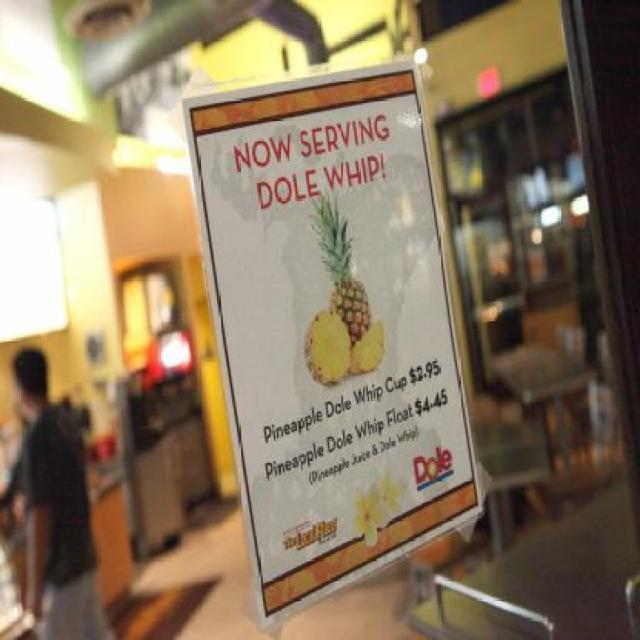Pineapple: (305, 184, 373, 348), (306, 309, 354, 391), (350, 317, 390, 372)
